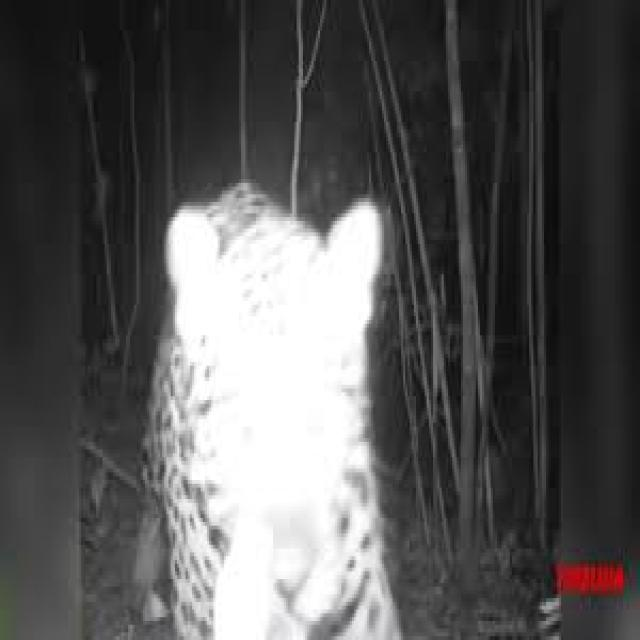Jaguar: (124, 171, 407, 640)
